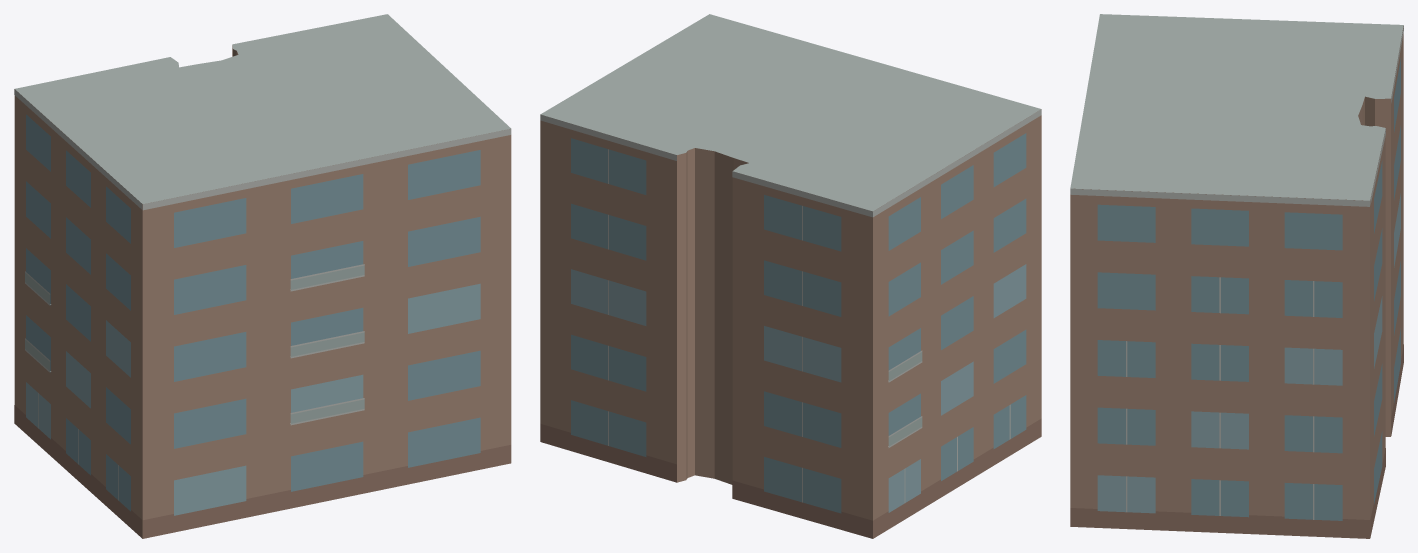
Rendered from survey-upis-32882758.glb.
3 views of the same model, side by side, from view 1: azimuth 30°, elevation 25°; view 2: azimuth 150°, elevation 25°; view 3: azimuth 270°, elevation 25° (orthographic). The views are drawn at different scales.
Parts seen in each view (by area): view 1: survey-upis-32882758.tmp; view 2: survey-upis-32882758.tmp; view 3: survey-upis-32882758.tmp.
Boxes of the visible parts, left/top/right/bottom form: survey-upis-32882758.tmp: left=14, top=14, right=511, bottom=538; survey-upis-32882758.tmp: left=540, top=14, right=1041, bottom=538; survey-upis-32882758.tmp: left=1070, top=14, right=1403, bottom=538.
Bounding box in the file's own units: 15.76 × 13.3 × 11.9.
